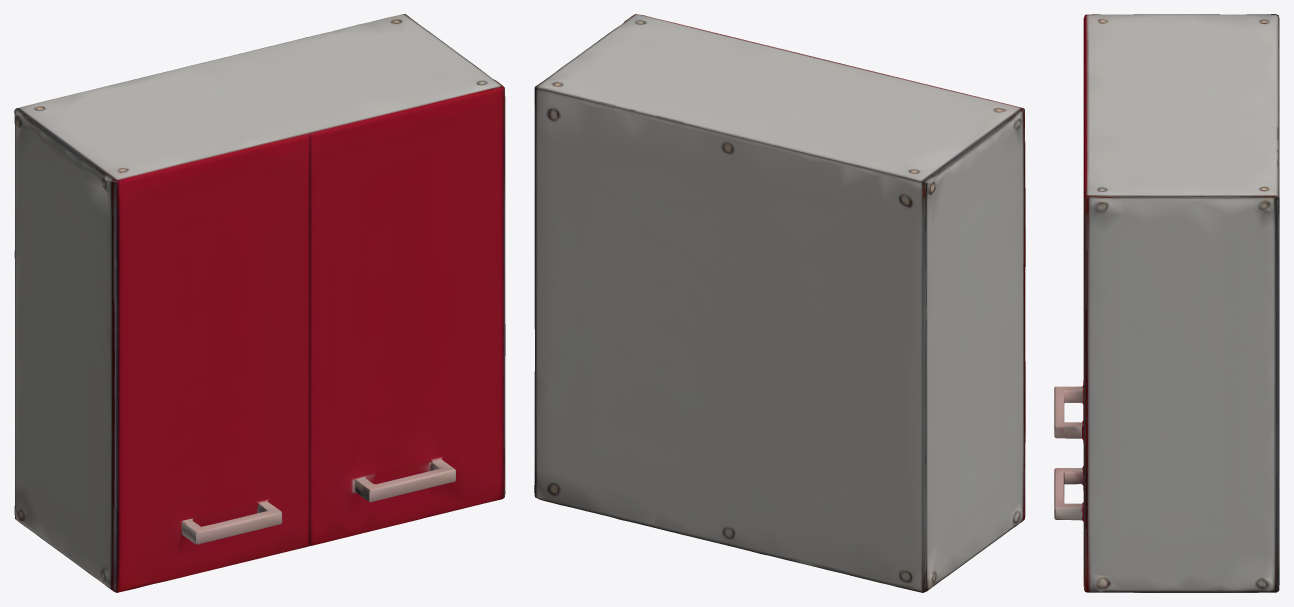
File: PlacardCuisine3_3D_textured.glb
3 renders of one model, left to right at view 1: azimuth 30°, elevation 25°; view 2: azimuth 150°, elevation 25°; view 3: azimuth 270°, elevation 25°, orthographic. The views are drawn at different scales.
Parts seen in each view (by area): view 1: temp_mesh.ply; view 2: temp_mesh.ply; view 3: temp_mesh.ply.
Part boxes in pixels (x1,y1,x2,y2): temp_mesh.ply: [14, 14, 505, 592]; temp_mesh.ply: [534, 14, 1025, 592]; temp_mesh.ply: [1054, 14, 1279, 592].
Bounding box in the file's own units: 1.98 × 1.97 × 1.01.
Materials: 1 (1 with a texture image).
